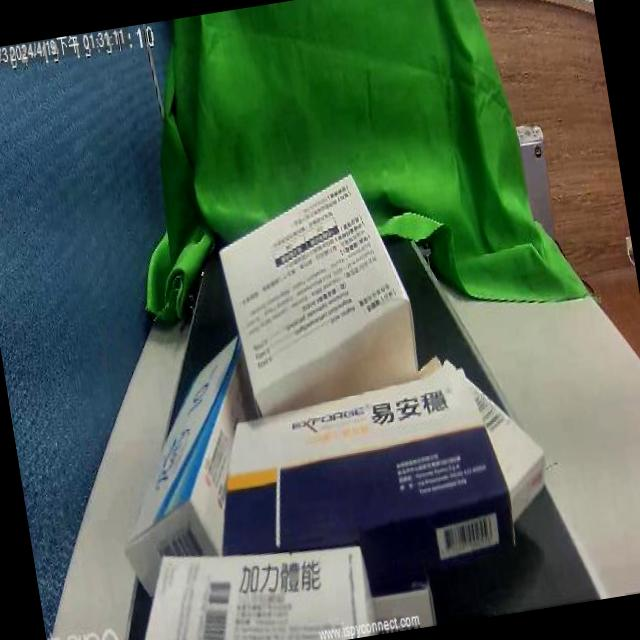box: (202, 176, 405, 399), (252, 366, 484, 552), (138, 346, 280, 560), (178, 534, 360, 640)
